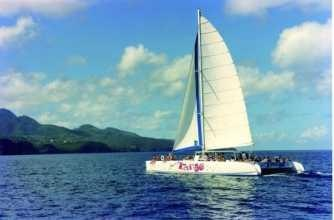fanchuan: (144, 10, 283, 174)
